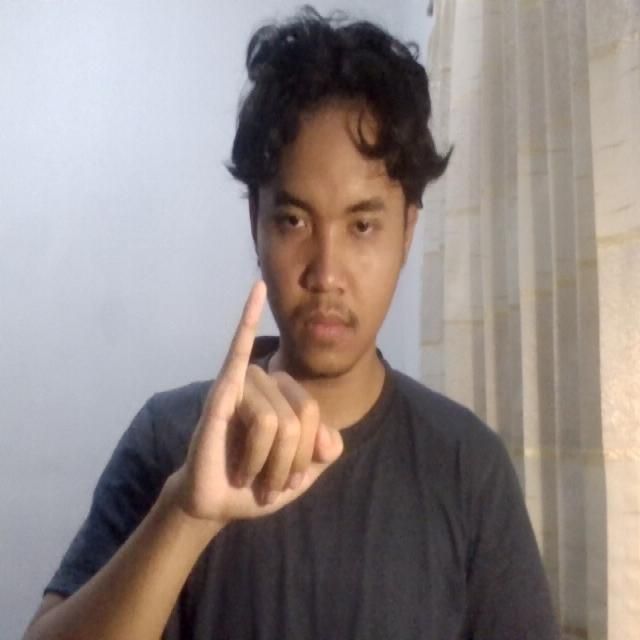Hello: (146, 268, 367, 548)
